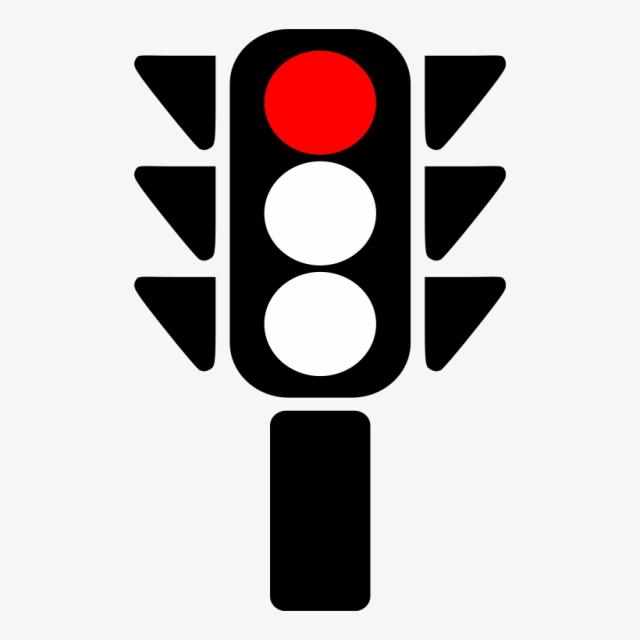red: (262, 52, 381, 152)
